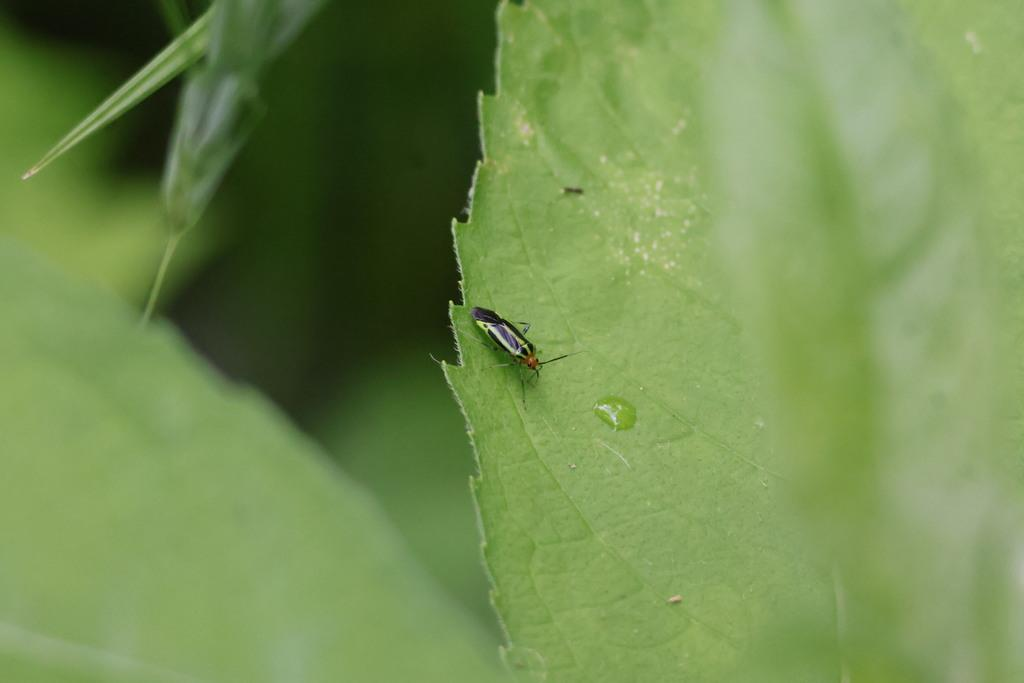plant_bugs: (453, 284, 600, 431)
